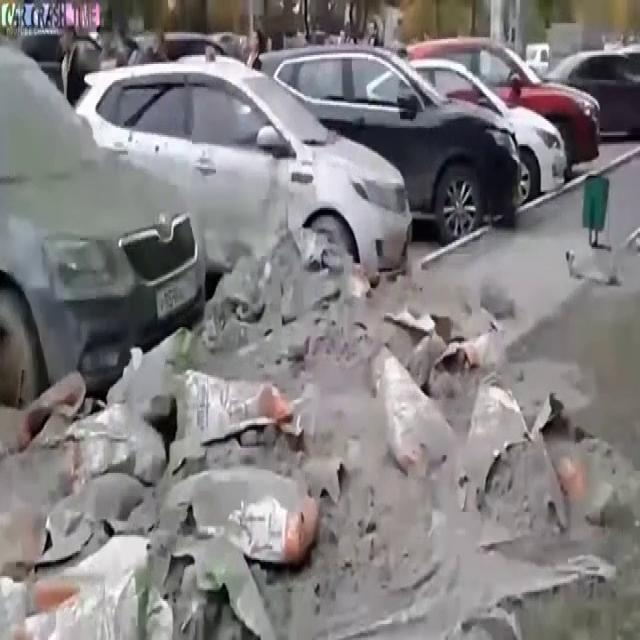accident: (0, 148, 307, 465)
